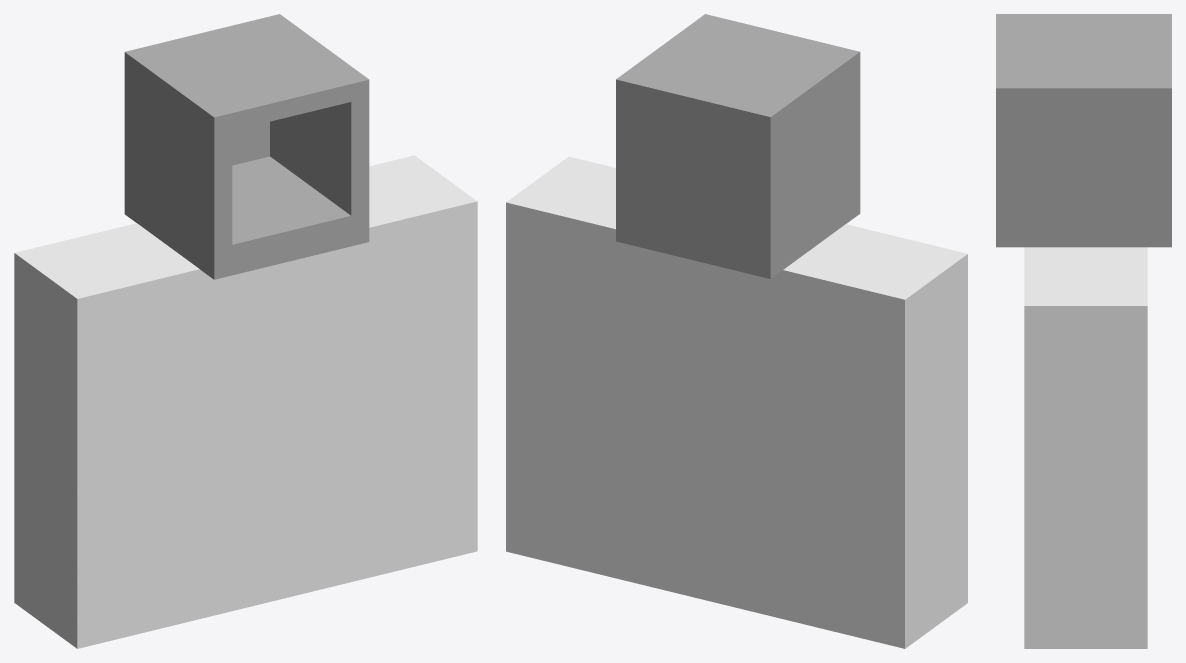
The model's file is strongbox.glb.
3 renders of one model, left to right at view 1: azimuth 30°, elevation 25°; view 2: azimuth 150°, elevation 25°; view 3: azimuth 270°, elevation 25°, orthographic.
Parts seen in each view (by area): view 1: Cube; view 2: Cube; view 3: Cube.
Part boxes in pixels (box(x1,y1,x2,y2)): Cube: box(14, 14, 477, 648); Cube: box(506, 14, 967, 648); Cube: box(996, 14, 1171, 648).
Size of the model in its own units: 1.35 by 1.65 by 0.5231.
Materials: 1 (1 with a texture image).
